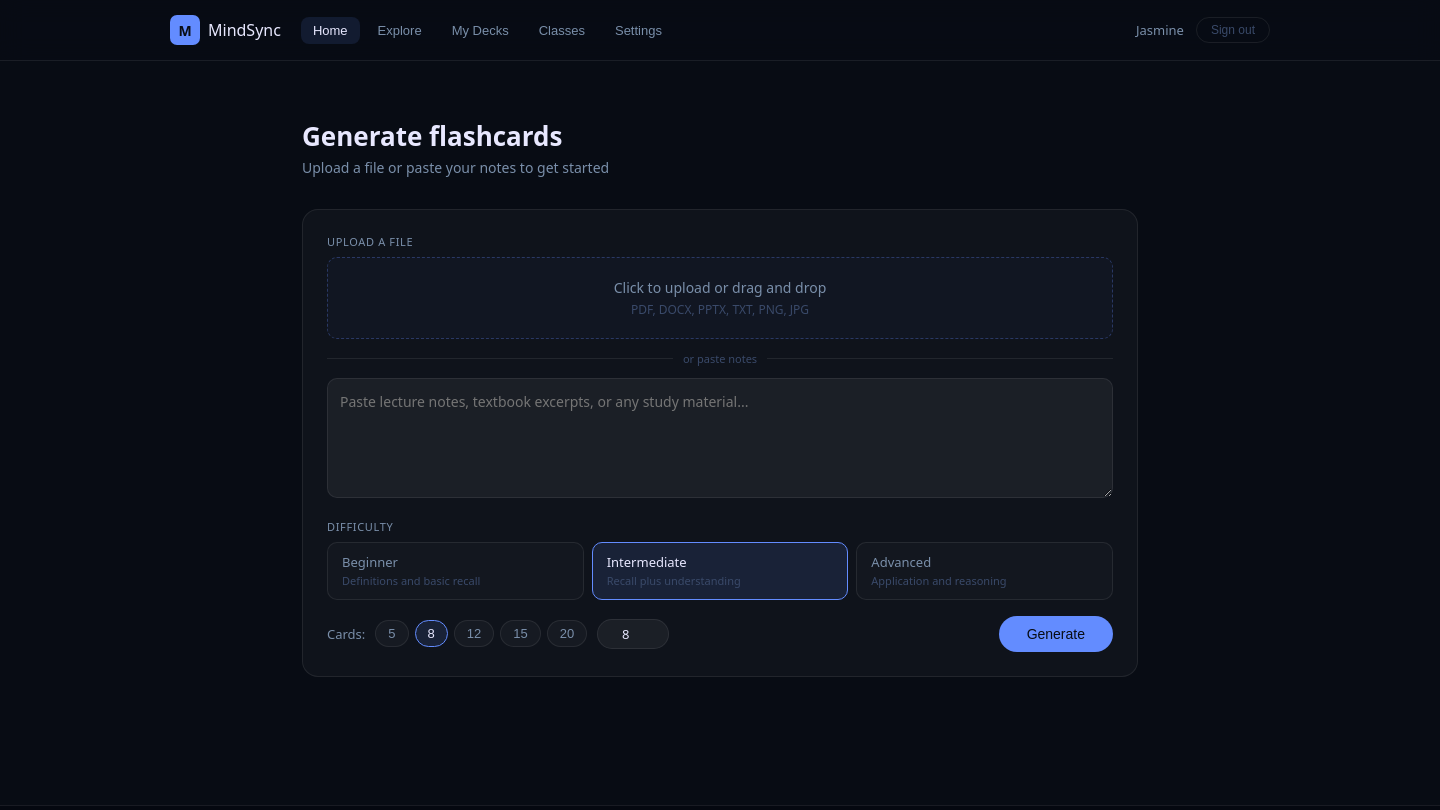
navigation › switches to Settings and back to Home via the logo
The image size is (1440, 810).
Click the button "Settings" at [638, 30], box [603,16,674,44]
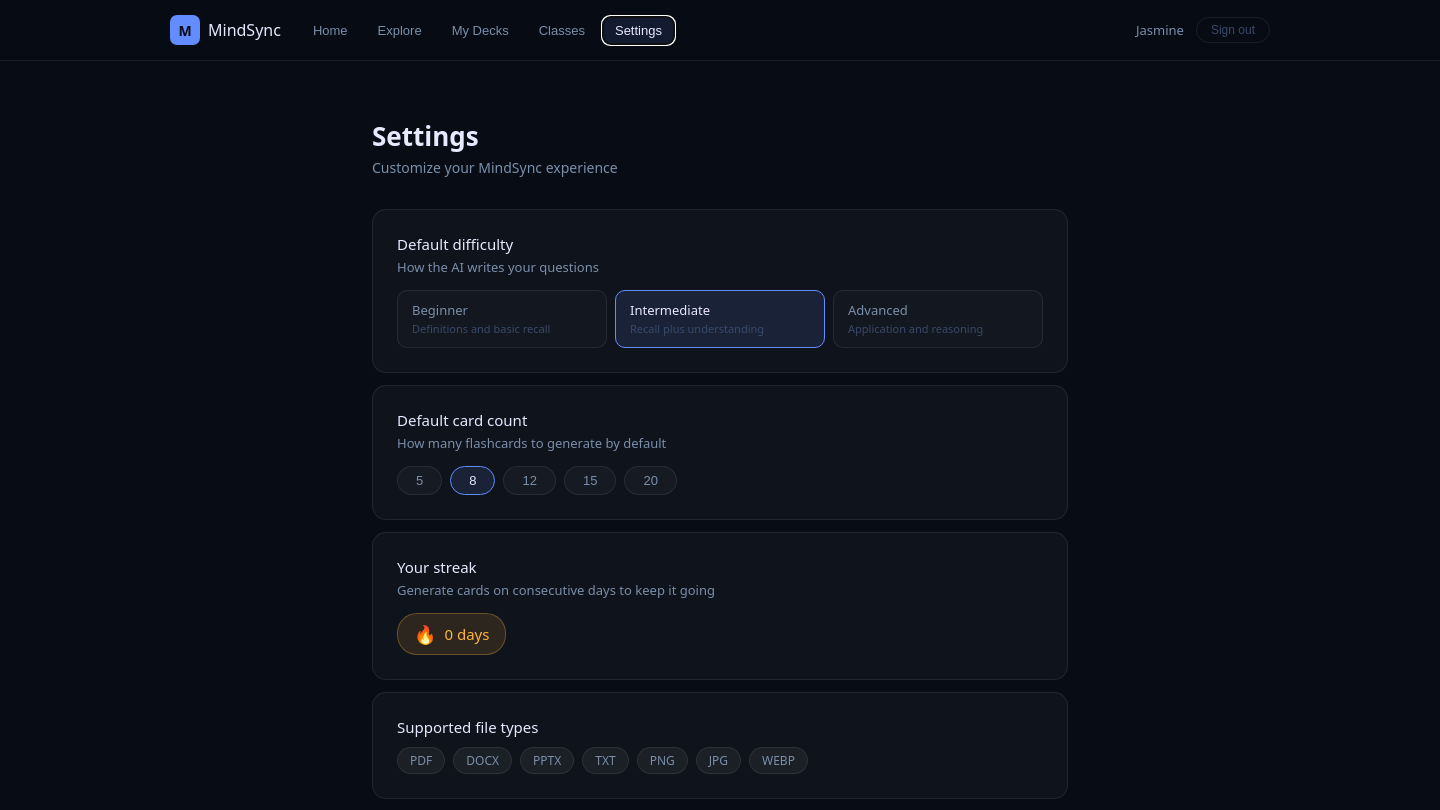
Result: the text "Default difficulty" is shown at [397,234,513,254]
# "MindSync" also appears in the footer, so scope to the nav.
Click the text "MindSync" at [244, 30], box [208,19,281,41]
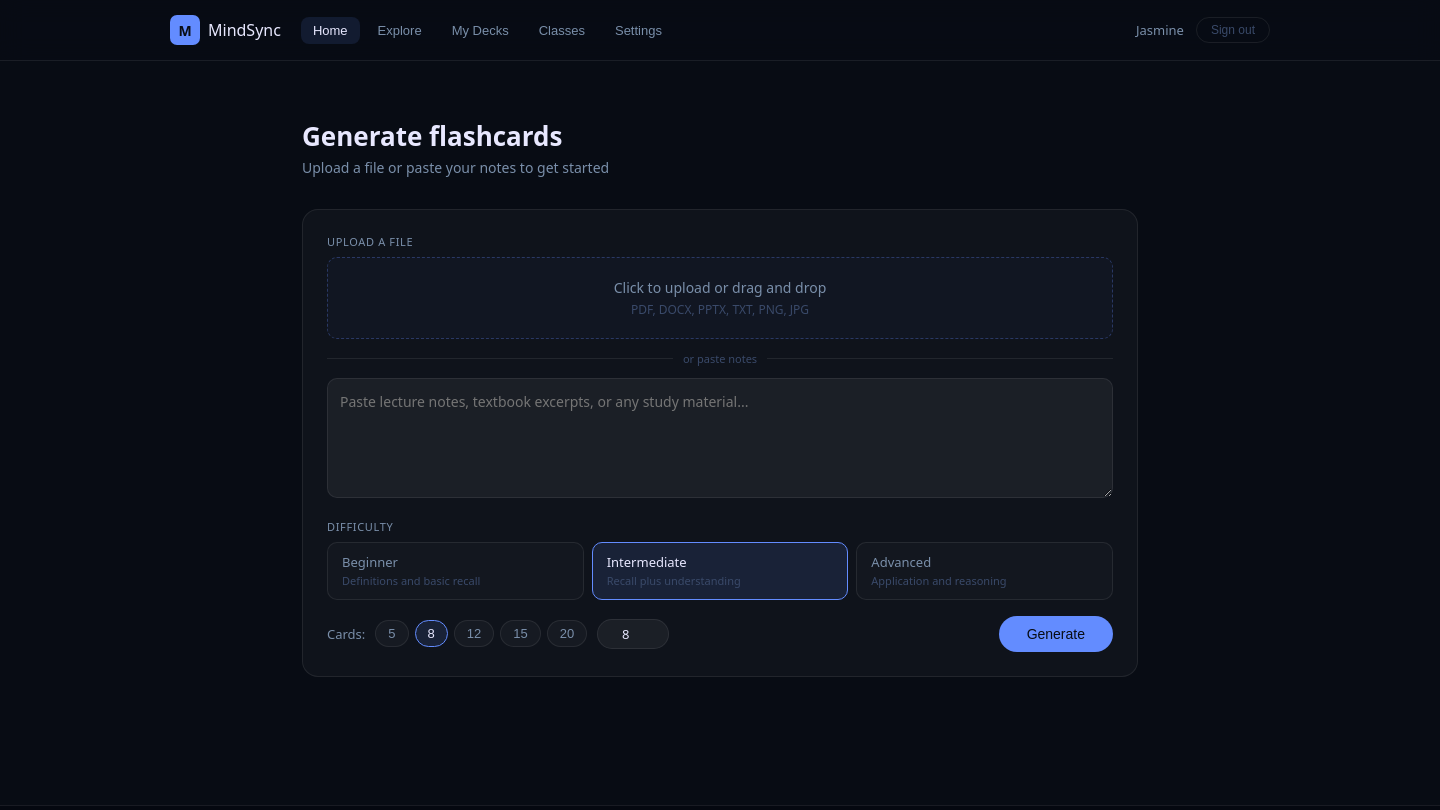
Result: the heading "Generate flashcards" is shown at [302,118,562,154]
